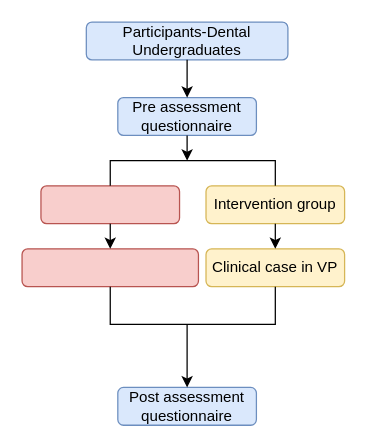
Some shapes in this 367 by 447 pixel diagram are drawn without their labels. Each missing label, with the box of its shape:
Clinical case in power point questionnaire: (21, 248, 198, 287)
Control Group: (40, 185, 180, 224)
